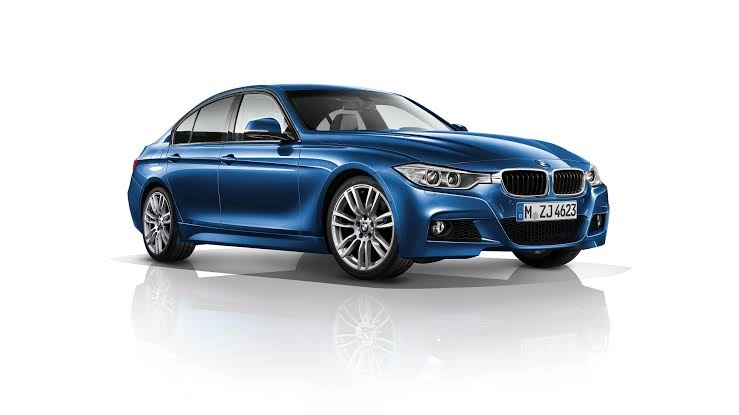bmw: (117, 81, 614, 283)
